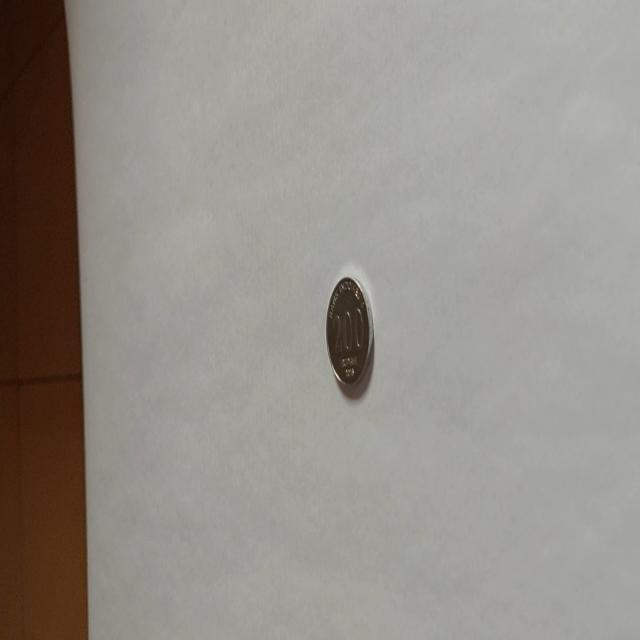dua ratus rupiah: (324, 274, 374, 389)
